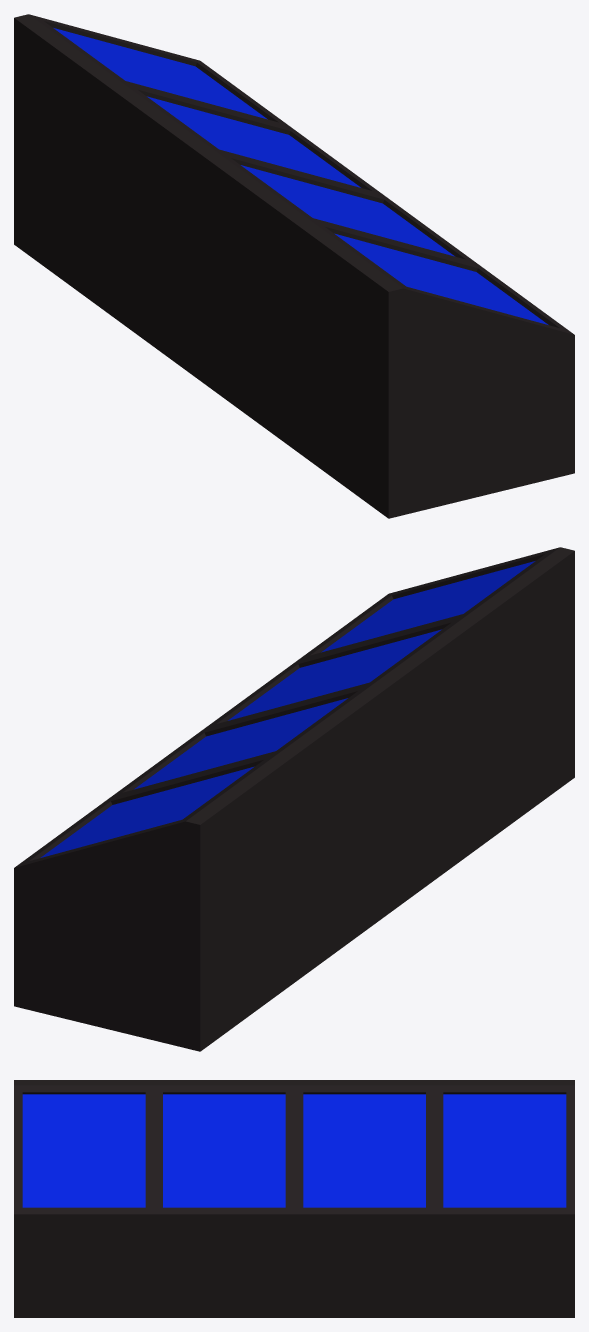
The model's file is mini_fridges.fbx.
3 renders of one model, top to bottom at view 1: azimuth 30°, elevation 25°; view 2: azimuth 150°, elevation 25°; view 3: azimuth 270°, elevation 25°, orthographic. The views are drawn at different scales.
Visible parts, largest first — view 1: Cube; view 2: Cube; view 3: Cube.
Boxes of the visible parts, left/top/right/bottom form: Cube: left=14, top=14, right=574, bottom=518; Cube: left=14, top=547, right=574, bottom=1051; Cube: left=14, top=1080, right=574, bottom=1317.
Bounding box in the file's own units: 200 × 233 × 697.
